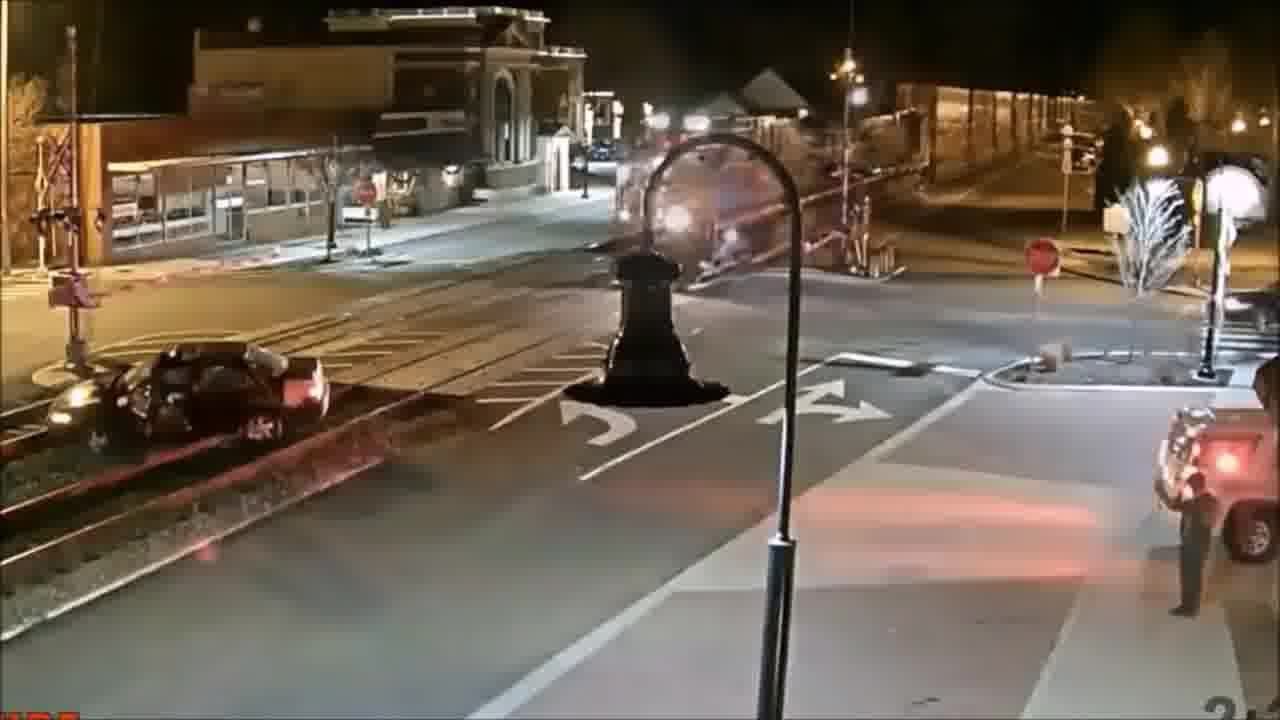crossing railway track: (38, 333, 345, 460)
